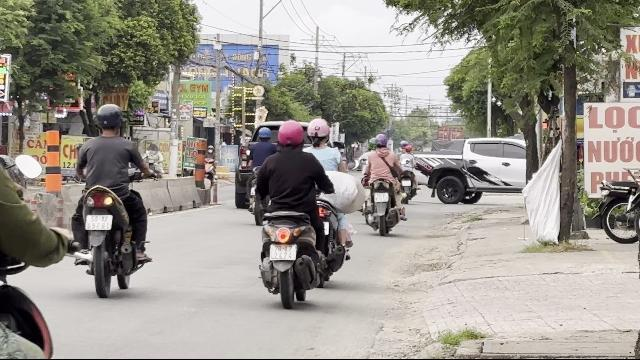helmet: (94, 103, 124, 135), (276, 120, 306, 150), (306, 117, 330, 146), (374, 133, 388, 149)
licenseplate: (85, 214, 112, 230), (270, 244, 296, 260), (374, 192, 388, 202)
motorcyclist: (250, 117, 352, 307), (68, 102, 154, 296), (304, 116, 358, 292), (358, 132, 406, 234)
